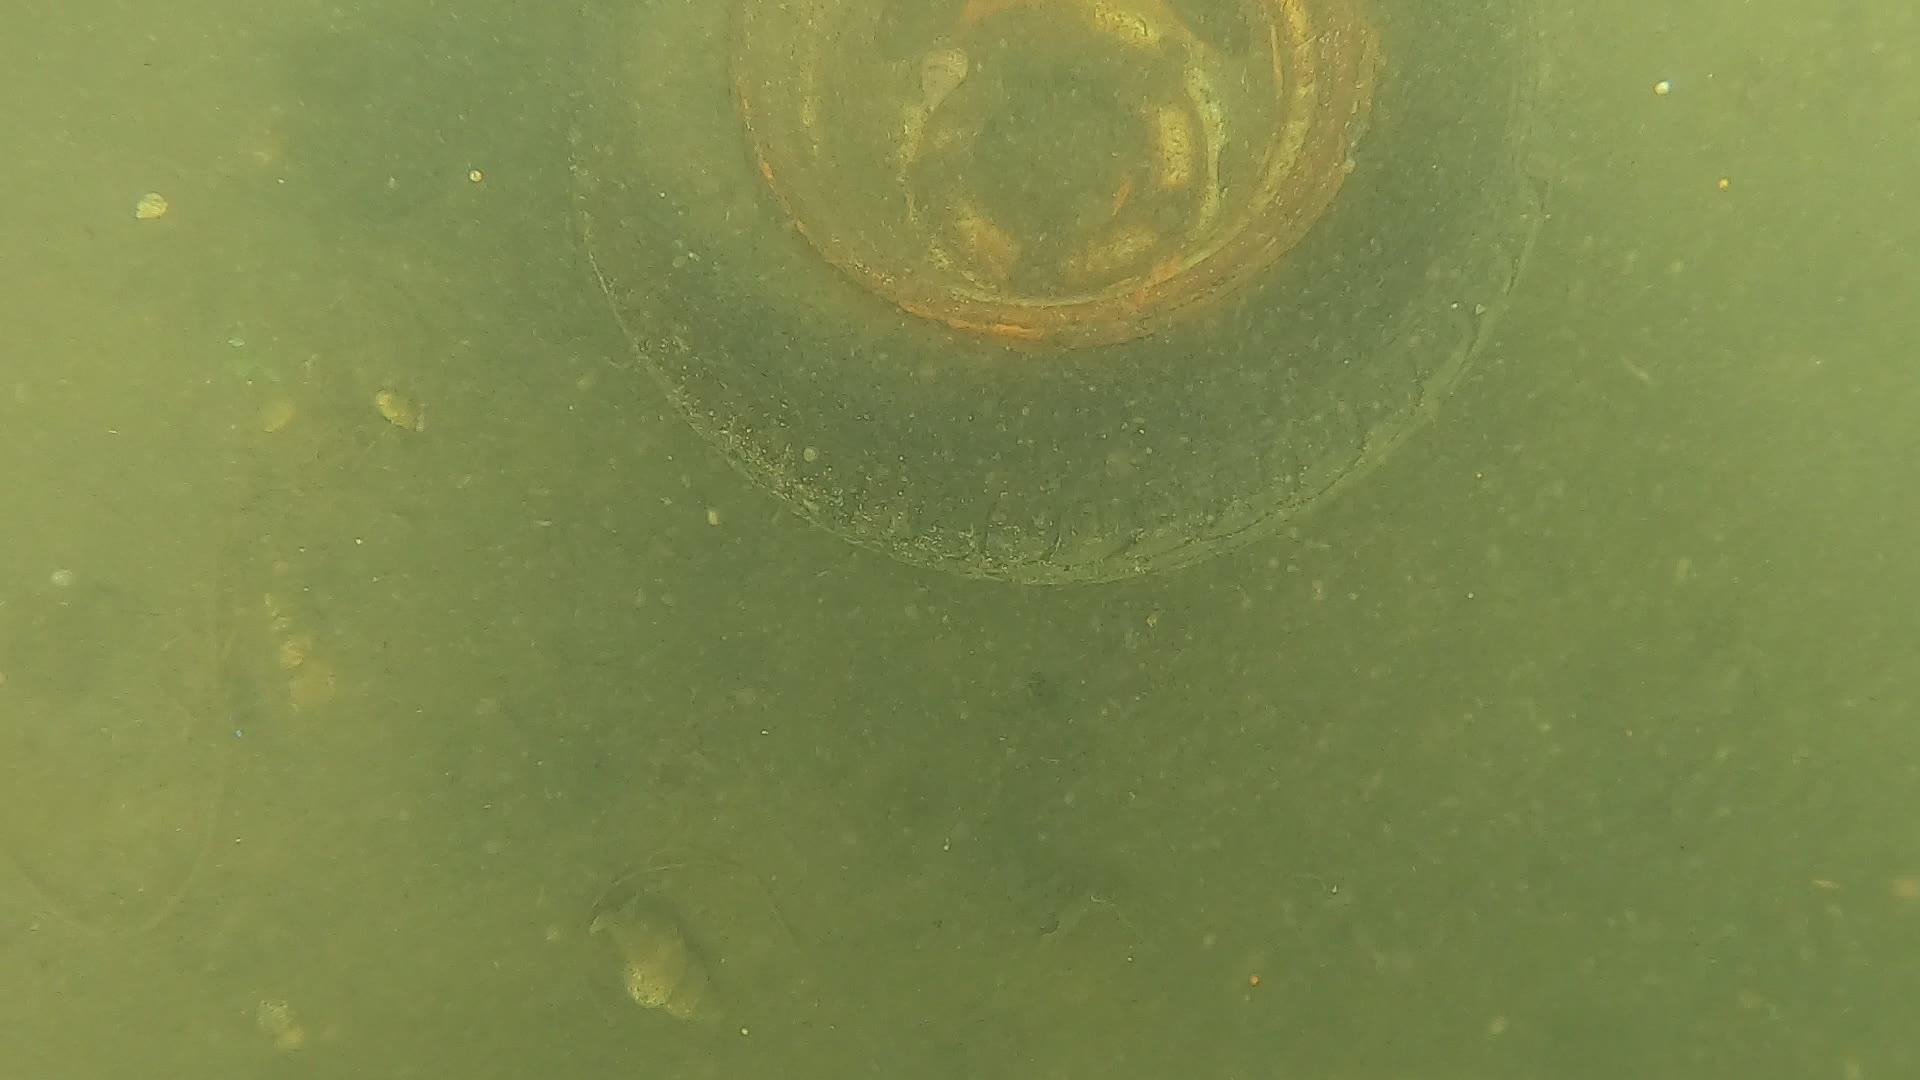tire: (564, 0, 1544, 575)
